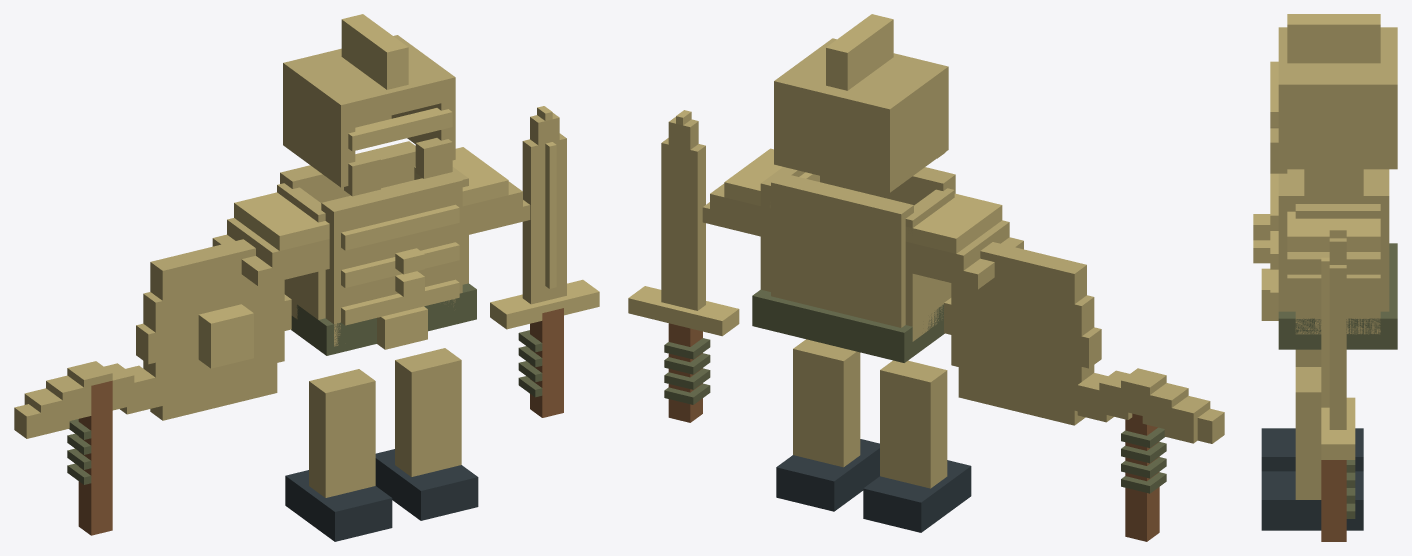
The model's file is gear_baseline_t7.glb.
The picture shows the model from 3 angles, left to right: view 1: azimuth 30°, elevation 25°; view 2: azimuth 150°, elevation 25°; view 3: azimuth 270°, elevation 25°; orthographic projection. The views are drawn at different scales.
Parts seen in each view (by area): view 1: gear_baseline_t7/armor_chest, gear_baseline_t7/armor_helmet, gear_baseline_t7/shield, gear_baseline_t7/weapon, gear_baseline_t7/armor_greave_left, gear_baseline_t7/armor_greave_right, gear_baseline_t7/utility_tool, gear_baseline_t7/armor_shoulder_left, gear_baseline_t7/armor_belt, gear_baseline_t7/armor_shoulder_right; view 2: gear_baseline_t7/armor_chest, gear_baseline_t7/armor_helmet, gear_baseline_t7/shield, gear_baseline_t7/weapon, gear_baseline_t7/armor_greave_left, gear_baseline_t7/armor_greave_right, gear_baseline_t7/utility_tool, gear_baseline_t7/armor_shoulder_left, gear_baseline_t7/armor_belt, gear_baseline_t7/armor_shoulder_right; view 3: gear_baseline_t7/armor_helmet, gear_baseline_t7/armor_chest, gear_baseline_t7/weapon, gear_baseline_t7/armor_greave_right, gear_baseline_t7/armor_shoulder_right, gear_baseline_t7/armor_belt, gear_baseline_t7/armor_greave_left.
Part boxes in pixels (box(x1,y1,x2,y2)): gear_baseline_t7/armor_chest: box(277, 141, 468, 346); gear_baseline_t7/armor_helmet: box(283, 14, 455, 196); gear_baseline_t7/shield: box(136, 239, 291, 420); gear_baseline_t7/weapon: box(490, 106, 599, 417); gear_baseline_t7/armor_greave_left: box(285, 369, 392, 541); gear_baseline_t7/armor_greave_right: box(375, 348, 478, 520); gear_baseline_t7/utility_tool: box(14, 361, 176, 535); gear_baseline_t7/armor_shoulder_left: box(212, 192, 329, 286); gear_baseline_t7/armor_belt: box(291, 283, 476, 355); gear_baseline_t7/armor_shoulder_right: box(414, 147, 530, 236); gear_baseline_t7/armor_chest: box(760, 167, 955, 341); gear_baseline_t7/armor_helmet: box(774, 14, 948, 192); gear_baseline_t7/shield: box(944, 242, 1101, 425); gear_baseline_t7/weapon: box(628, 110, 739, 422); gear_baseline_t7/armor_greave_left: box(863, 360, 971, 532); gear_baseline_t7/armor_greave_right: box(776, 339, 879, 511); gear_baseline_t7/utility_tool: box(1060, 368, 1224, 541); gear_baseline_t7/armor_shoulder_left: box(905, 193, 1023, 289); gear_baseline_t7/armor_belt: box(752, 289, 944, 362); gear_baseline_t7/armor_shoulder_right: box(702, 148, 819, 236); gear_baseline_t7/armor_helmet: box(1270, 14, 1397, 173); gear_baseline_t7/armor_chest: box(1253, 169, 1389, 334); gear_baseline_t7/weapon: box(1321, 227, 1355, 541); gear_baseline_t7/armor_greave_right: box(1261, 367, 1363, 530); gear_baseline_t7/armor_shoulder_right: box(1287, 211, 1380, 293); gear_baseline_t7/armor_belt: box(1261, 243, 1397, 349); gear_baseline_t7/armor_greave_left: box(1261, 349, 1363, 471).
Bounding box in the file's own units: 2.5 × 1.94 × 0.5312.
